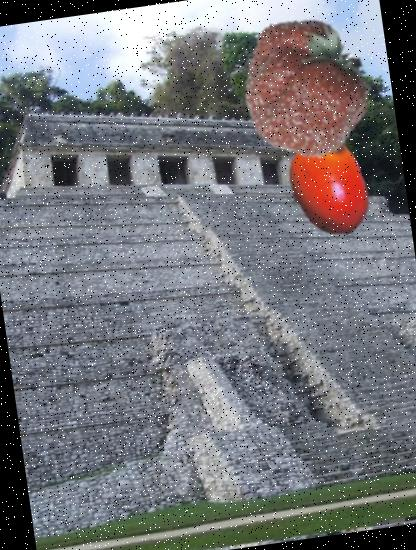Kaki: (270, 131, 385, 245)
Strawberry: (224, 5, 388, 169)
